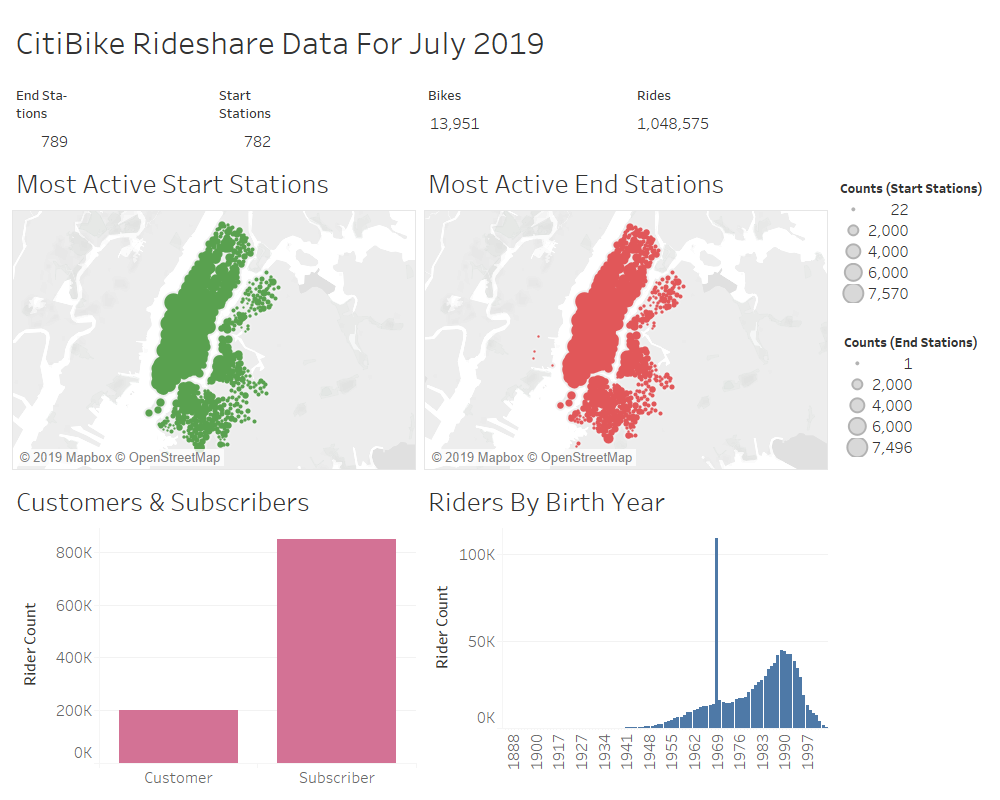

Layout of this report page (visuals, bound fields, positions):
{"tool":"tableau","page":{"name":"CitiBike Ride Share Data","canvas":[1000,800],"ordinal":0},"visuals":[{"type":"title","box":[8,8,824,67.5]},{"type":"legend","title":"Most Active Start Stations","param":"[federated.1m67k8d0nfju6n16ci4pz0z80w6q].[cnt:startstationlongitude:qk]","box":[832,8,160,148]},{"type":"worksheet","title":"Number of End Stations","mark":"Automatic","box":[8,75.5,203,80.5]},{"type":"worksheet","title":"Number of Start Stations","mark":"Automatic","box":[211,75.5,209,80.5]},{"type":"worksheet","title":"Number of Bikes","mark":"Automatic","box":[420,75.5,209,80.5]},{"type":"worksheet","title":"Total Number of Rides","mark":"Automatic","box":[629,75.5,203,80.5]},{"type":"worksheet","title":"Most Active Start Stations","mark":"Automatic","rows":["startstationlatitude"],"cols":["startstationlongitude"],"box":[8,156,412,318]},{"type":"worksheet","title":"Most Active End Stations","mark":"Automatic","rows":["endstationlatitude"],"cols":["endstationlongitude"],"box":[420,156,412,318]},{"type":"legend","title":"Most Active End Stations","param":"[federated.1m67k8d0nfju6n16ci4pz0z80w6q].[cnt:endstationlongitude:qk]","box":[832,156,160,327]},{"type":"worksheet","title":"Customers vs Subscribers","mark":"Automatic","rows":["Number of Records"],"cols":["usertype"],"box":[8,474,412,318]},{"type":"worksheet","title":"Riders By Birth Year","mark":"Automatic","rows":["Number of Records"],"cols":["birthyear"],"box":[420,474,412,318]}]}

Visuals, with their boxes in screenshot pixels (x1, y1, x2, y2), scaled from the page's 1000x800 canvas onto the 1000x800 screenshot:
title: (8,8,832,76)
"Most Active Start Stations" legend: (832,8,992,156)
"Number of End Stations" worksheet: (8,76,211,156)
"Number of Start Stations" worksheet: (211,76,420,156)
"Number of Bikes" worksheet: (420,76,629,156)
"Total Number of Rides" worksheet: (629,76,832,156)
"Most Active Start Stations" worksheet: (8,156,420,474)
"Most Active End Stations" worksheet: (420,156,832,474)
"Most Active End Stations" legend: (832,156,992,483)
"Customers vs Subscribers" worksheet: (8,474,420,792)
"Riders By Birth Year" worksheet: (420,474,832,792)
